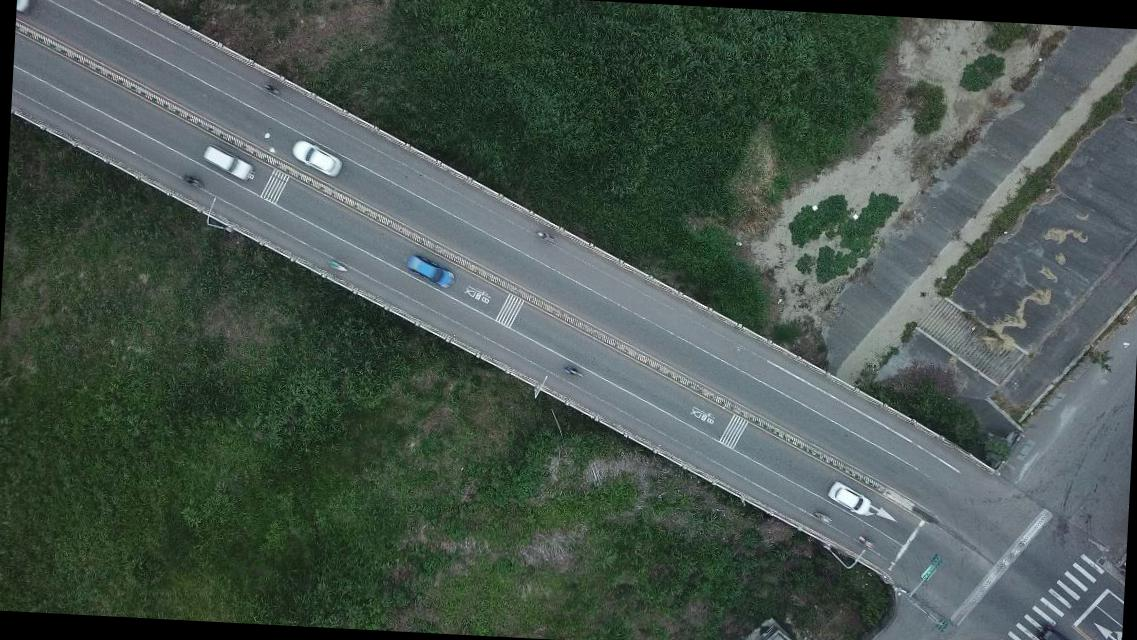vehicle: (289, 137, 344, 180), (200, 143, 254, 185), (404, 254, 456, 289), (824, 481, 871, 518)
